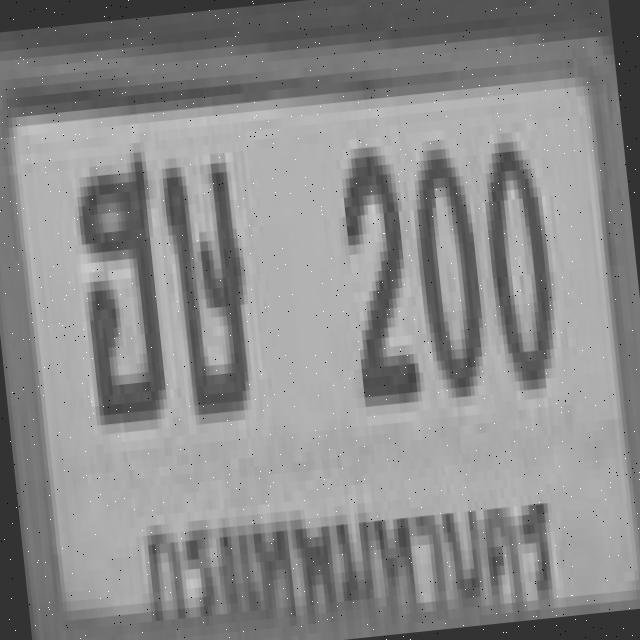0: (402, 137, 486, 390), (474, 130, 556, 383)
2: (333, 134, 417, 398)
48SorRueSi: (155, 142, 255, 416)
53HorNokHook: (68, 142, 168, 416)
Bangkok: (134, 454, 562, 640)
